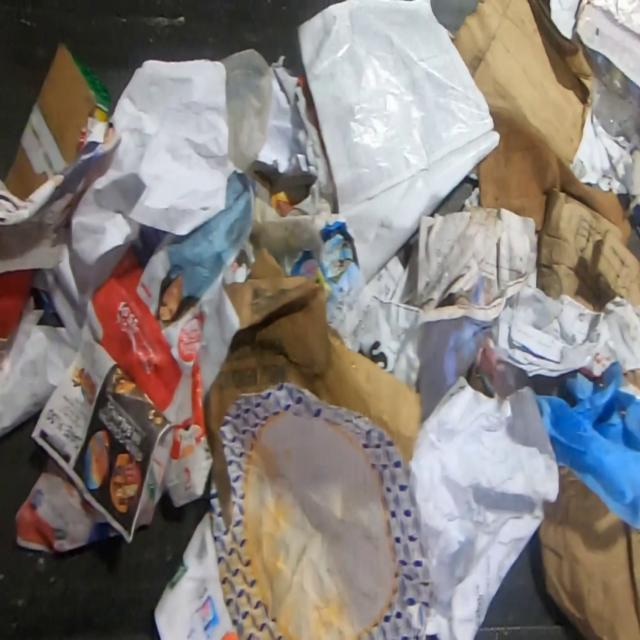cardboard: (203, 245, 422, 534), (450, 0, 632, 247), (536, 463, 640, 640), (0, 40, 110, 201), (539, 187, 639, 311)
